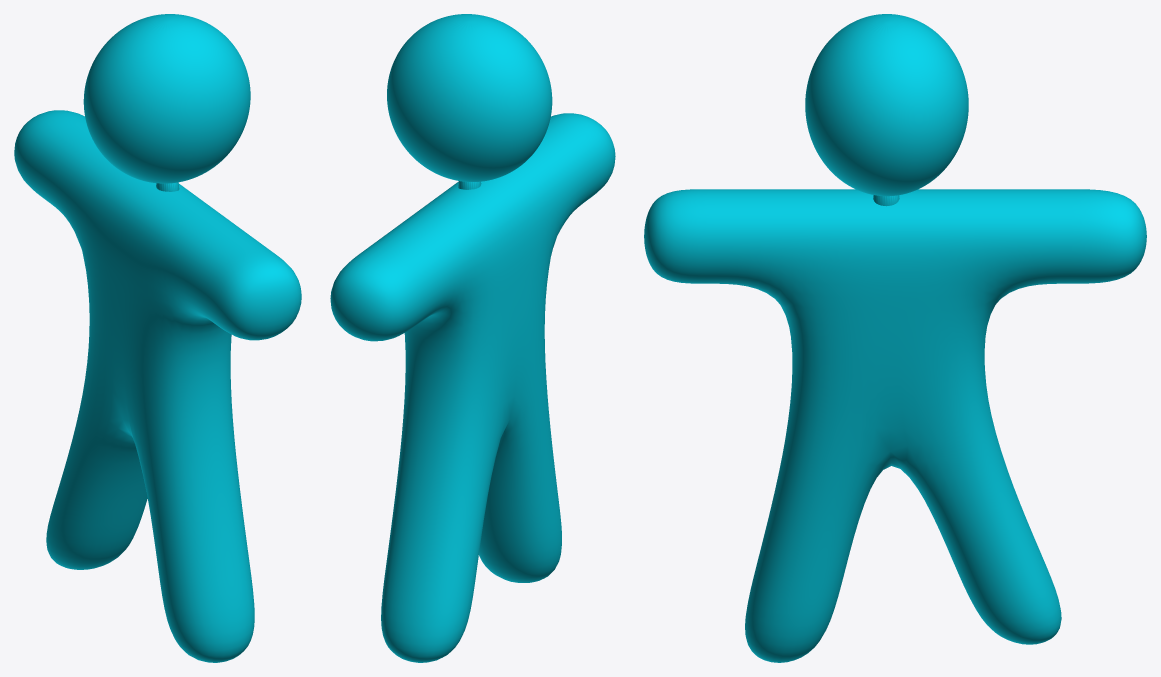
Rendered from Battle Plan Path.fbx.
The picture shows the model from 3 angles, left to right: view 1: azimuth 30°, elevation 25°; view 2: azimuth 150°, elevation 25°; view 3: azimuth 270°, elevation 25°; orthographic projection. The views are drawn at different scales.
Parts seen in each view (by area): view 1: Cube, Sphere; view 2: Cube, Sphere; view 3: Cube, Sphere.
Part boxes in pixels (x1=…): Cube: x1=14, y1=110, x2=301, y2=662; Sphere: x1=83, y1=14, x2=250, y2=183; Cube: x1=330, y1=113, x2=615, y2=662; Sphere: x1=387, y1=14, x2=552, y2=181; Cube: x1=644, y1=189, x2=1146, y2=662; Sphere: x1=805, y1=14, x2=968, y2=196.
Bounding box in the file's own units: 197 × 765 × 548.
